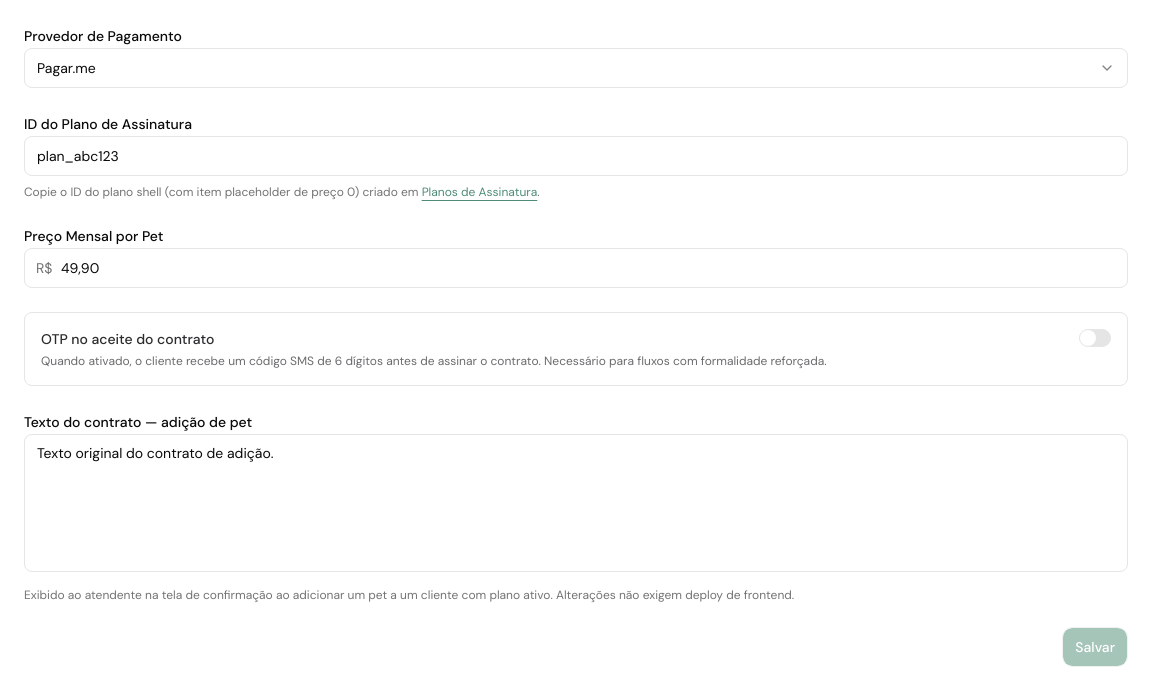
Test: SettingsForm — OTP contract toggle › should display INVALID_OTP_CONTRACT_ENABLED friendly message when backend rejects
Click the switch named "ativar otp no aceite do contrato" at (1095, 338), box [1079,329,1111,347]
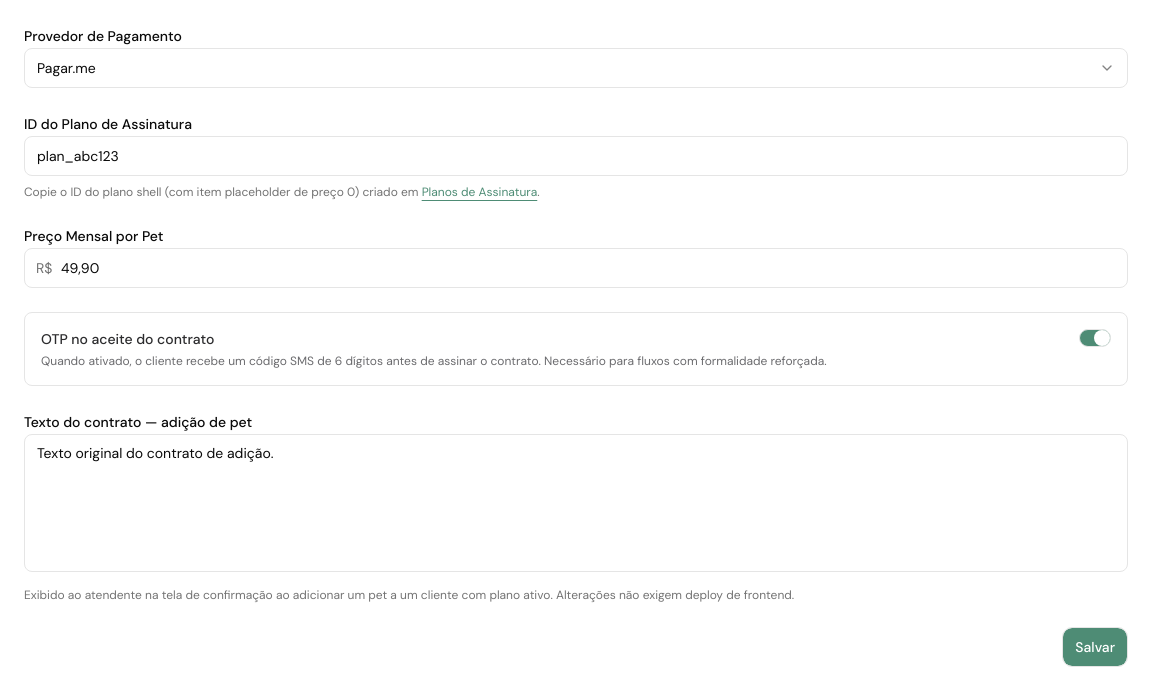
Click the button "Salvar" at (1095, 647), box [1062,627,1128,667]
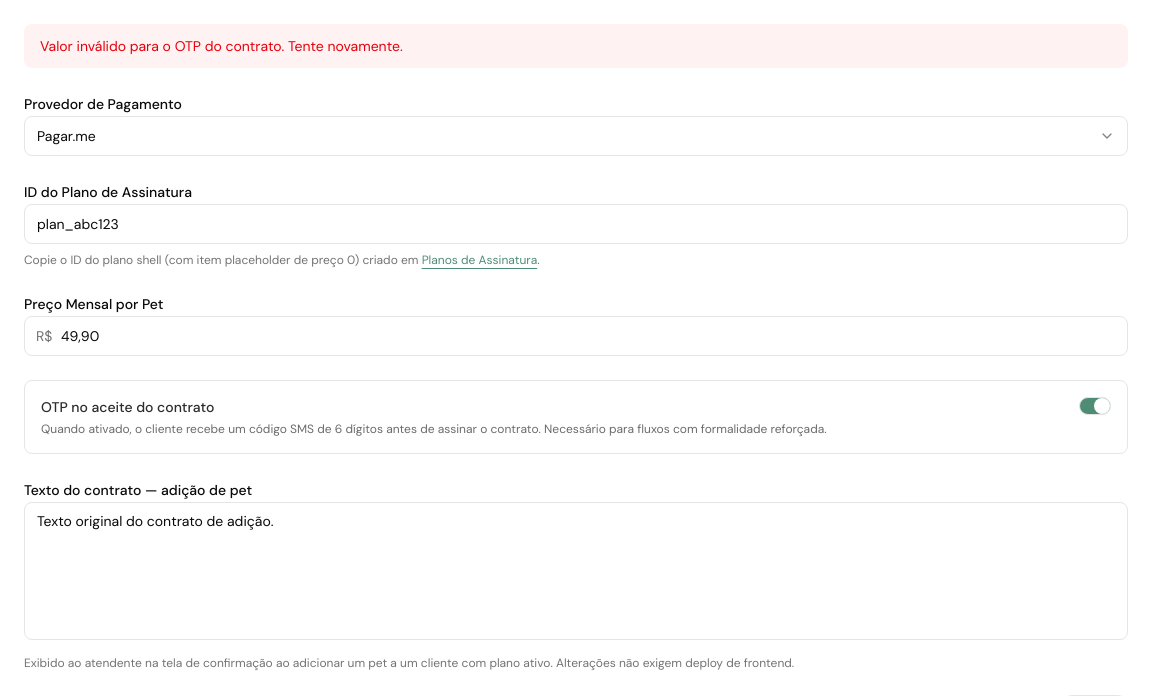
Check: the text "Valor inválido para o OTP do contrato. Tente novamente." is shown, box [24,24,1128,68]
